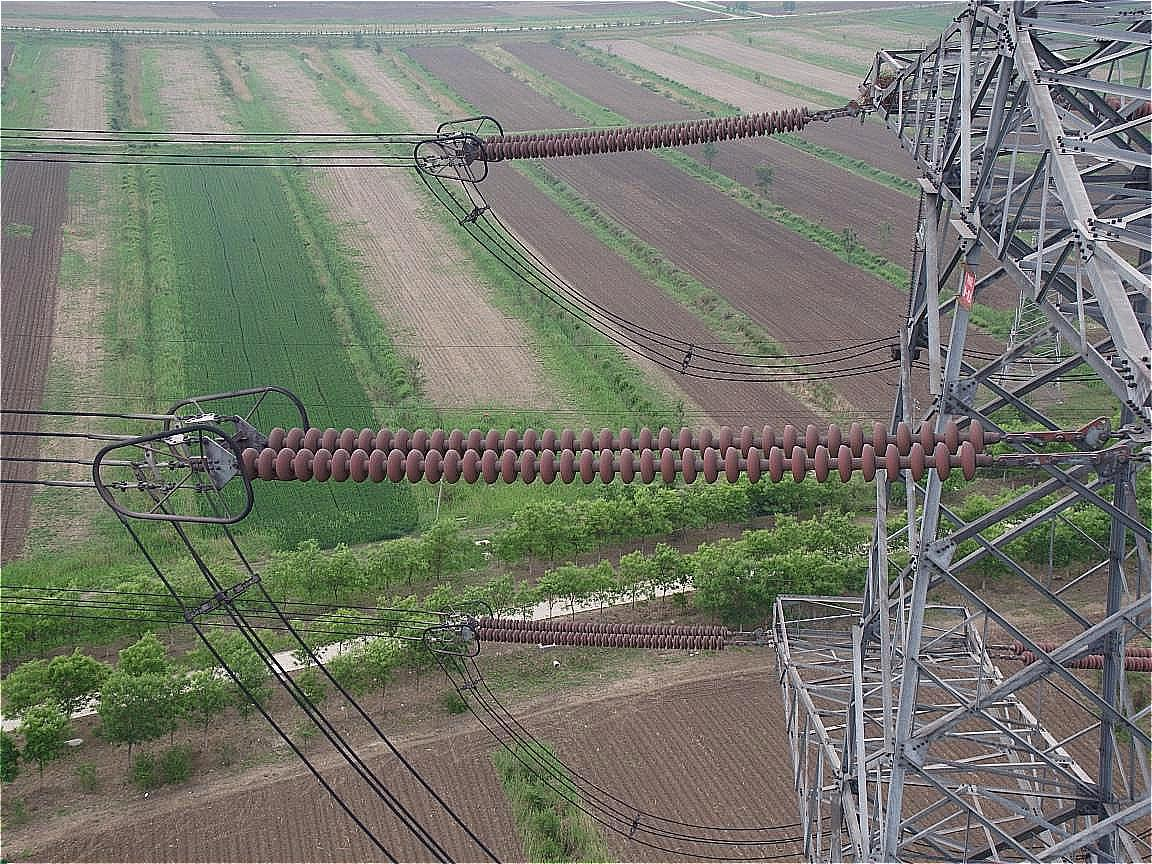insultor1: (235, 382, 996, 513), (472, 605, 742, 669)
insultor2: (461, 94, 823, 159)
